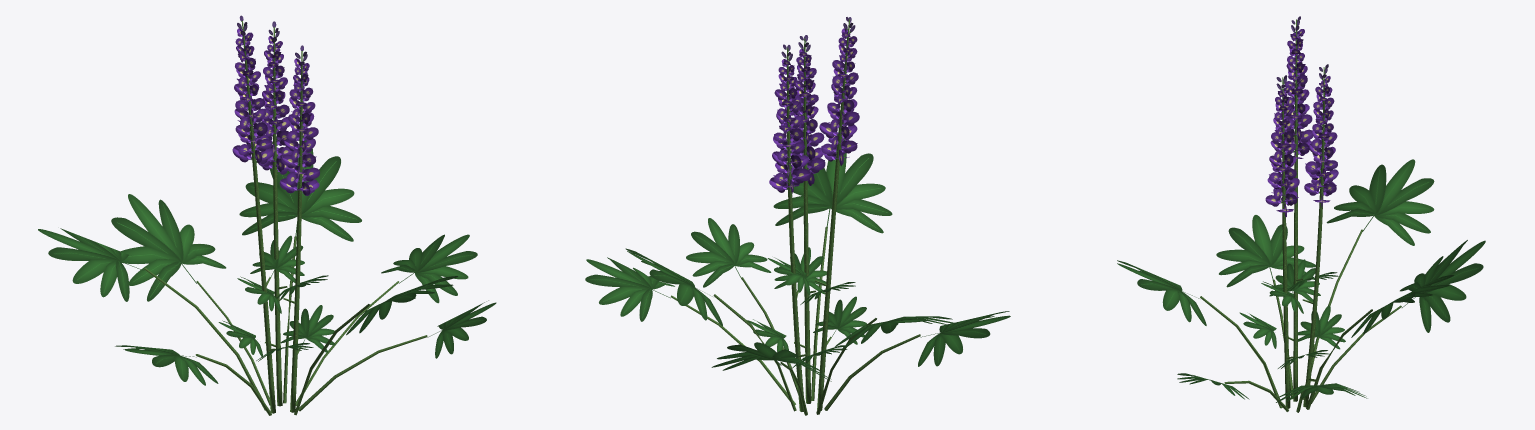
File: lupine_v02_LOD1.fbx
3 views of the same model, side by side, from view 1: azimuth 30°, elevation 25°; view 2: azimuth 150°, elevation 25°; view 3: azimuth 270°, elevation 25° (orthographic). The views are drawn at different scales.
Visible parts, largest first — view 1: lupine_v02_LOD1; view 2: lupine_v02_LOD1; view 3: lupine_v02_LOD1.
Boxes of the visible parts, x1,y1,x2,y2 form: lupine_v02_LOD1: (38, 15, 496, 415); lupine_v02_LOD1: (585, 17, 1010, 415); lupine_v02_LOD1: (1117, 16, 1485, 412).
Size of the model in its own units: 97.1 by 88.36 by 82.29.
3 materials, 3 textured.
